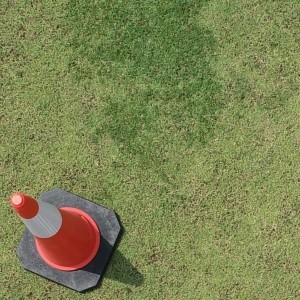traffic cone: (11, 187, 122, 291)
